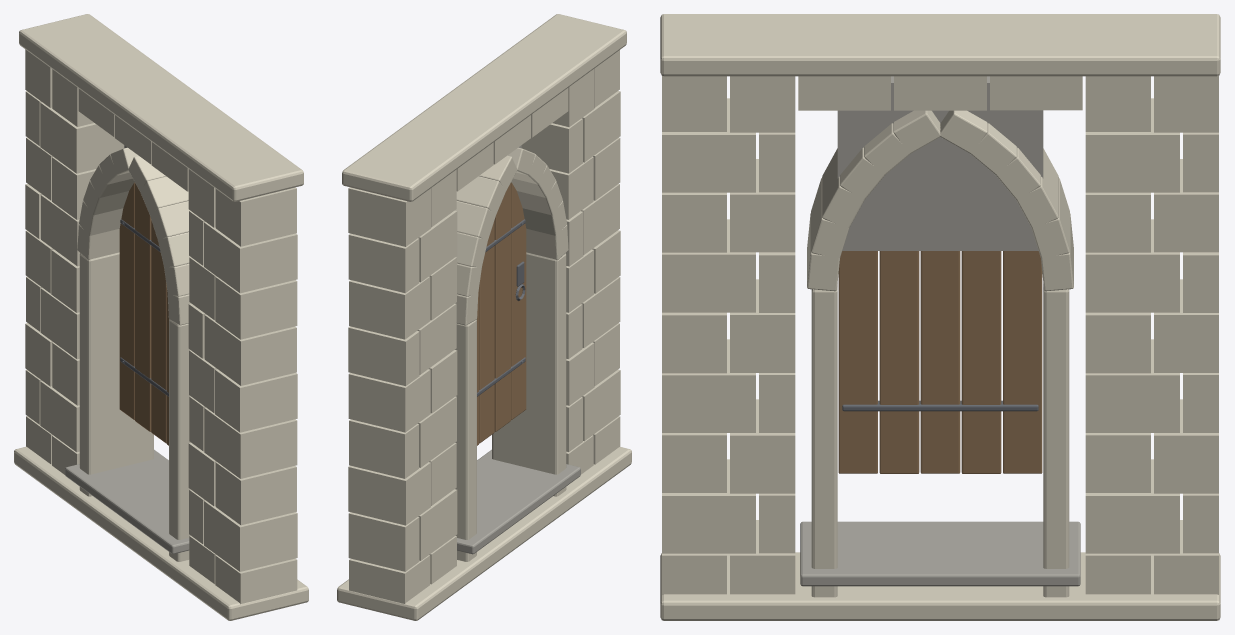
Rendered from monastery_monastery_door_bay.glb.
3 renders of one model, left to right at view 1: azimuth 30°, elevation 25°; view 2: azimuth 150°, elevation 25°; view 3: azimuth 270°, elevation 25°, orthographic. The views are drawn at different scales.
Visible parts, largest first — view 1: world; view 2: world; view 3: world.
Boxes of the visible parts, left/top/right/bottom form: world: left=14, top=14, right=308, bottom=620; world: left=337, top=14, right=631, bottom=620; world: left=660, top=14, right=1220, bottom=620.
Size of the model in its own units: 0.4157 by 2 by 1.81.
